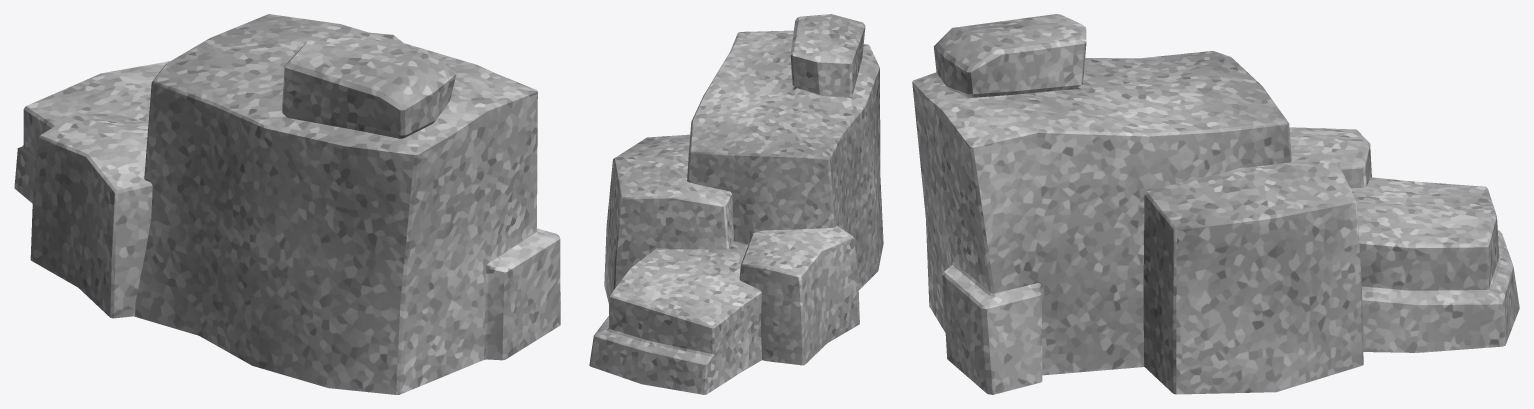
File: gake1.fbx
The picture shows the model from 3 angles, left to right: view 1: azimuth 30°, elevation 25°; view 2: azimuth 150°, elevation 25°; view 3: azimuth 270°, elevation 25°; orthographic projection. The views are drawn at different scales.
Parts seen in each view (by area): view 1: pCube7; view 2: pCube7; view 3: pCube7.
Part boxes in pixels (box(x1,y1,x2,y2)): pCube7: box(14, 14, 560, 394); pCube7: box(589, 14, 883, 394); pCube7: box(912, 14, 1519, 394).
Size of the model in its own units: 23.51 by 20.53 by 39.57.
